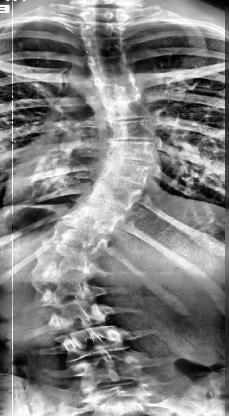Vertebrae: (56, 324, 130, 360), (70, 353, 148, 387), (34, 245, 106, 280), (34, 278, 110, 310), (82, 176, 152, 210), (38, 302, 116, 332), (44, 221, 114, 253), (94, 159, 159, 189), (63, 199, 126, 228), (100, 116, 162, 144), (100, 137, 162, 165), (97, 100, 155, 122), (94, 86, 150, 108), (78, 34, 130, 57), (78, 19, 132, 39), (82, 53, 136, 73), (89, 70, 142, 90), (76, 6, 132, 23)
